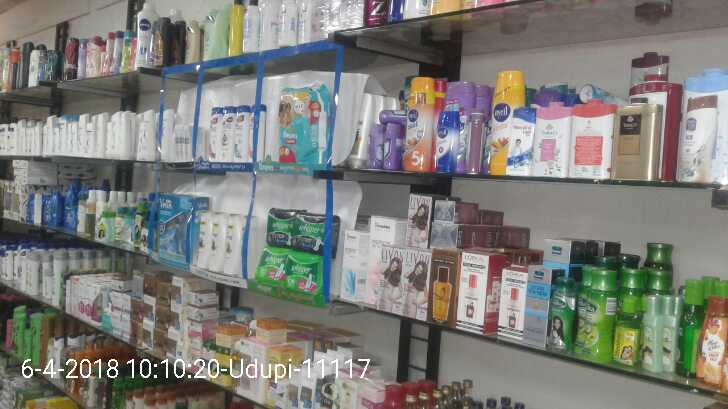venus: (159, 195, 191, 269)
